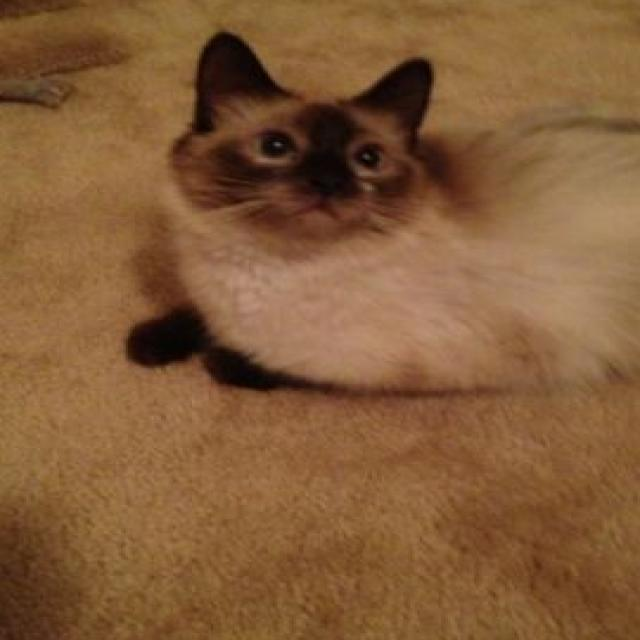Birman: (118, 26, 640, 401)
